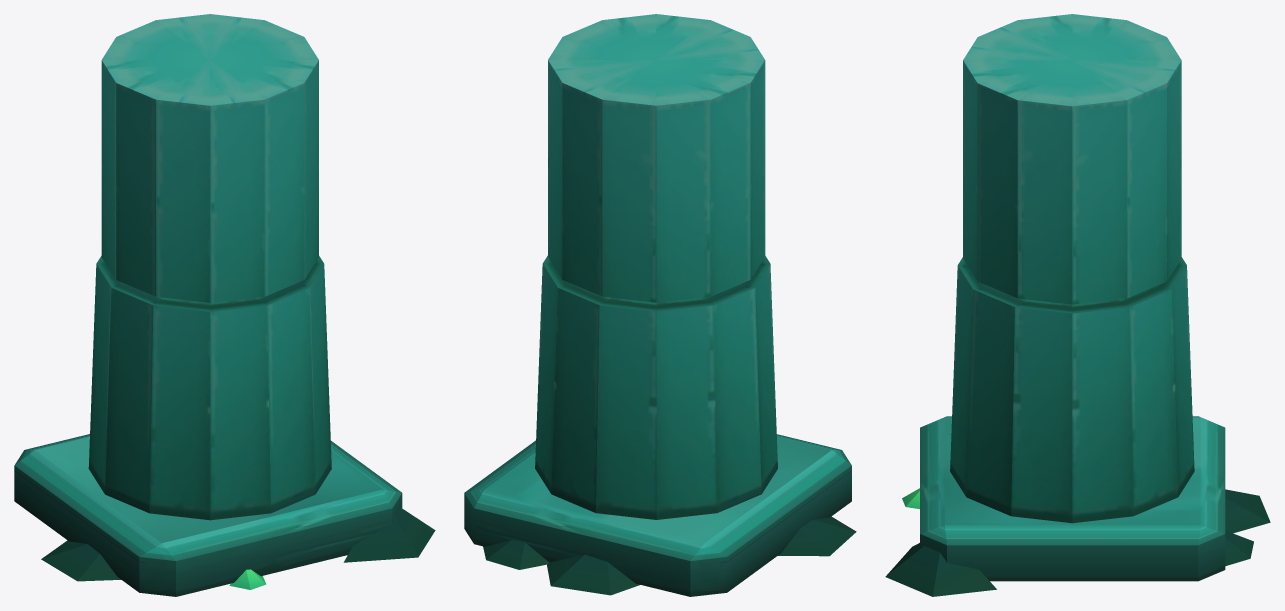
The model's file is wall_column1 (merge).fbx.
3 renders of one model, left to right at view 1: azimuth 30°, elevation 25°; view 2: azimuth 150°, elevation 25°; view 3: azimuth 270°, elevation 25°, orthographic.
Visible parts, largest first — view 1: wall_column1; view 2: wall_column1; view 3: wall_column1.
Boxes of the visible parts, bbox=[...] form: wall_column1: bbox=[14, 14, 435, 596]; wall_column1: bbox=[464, 14, 856, 596]; wall_column1: bbox=[885, 14, 1270, 596].
Size of the model in its own units: 2.43 by 3.25 by 2.47.
Materials: 1 (1 with a texture image).
